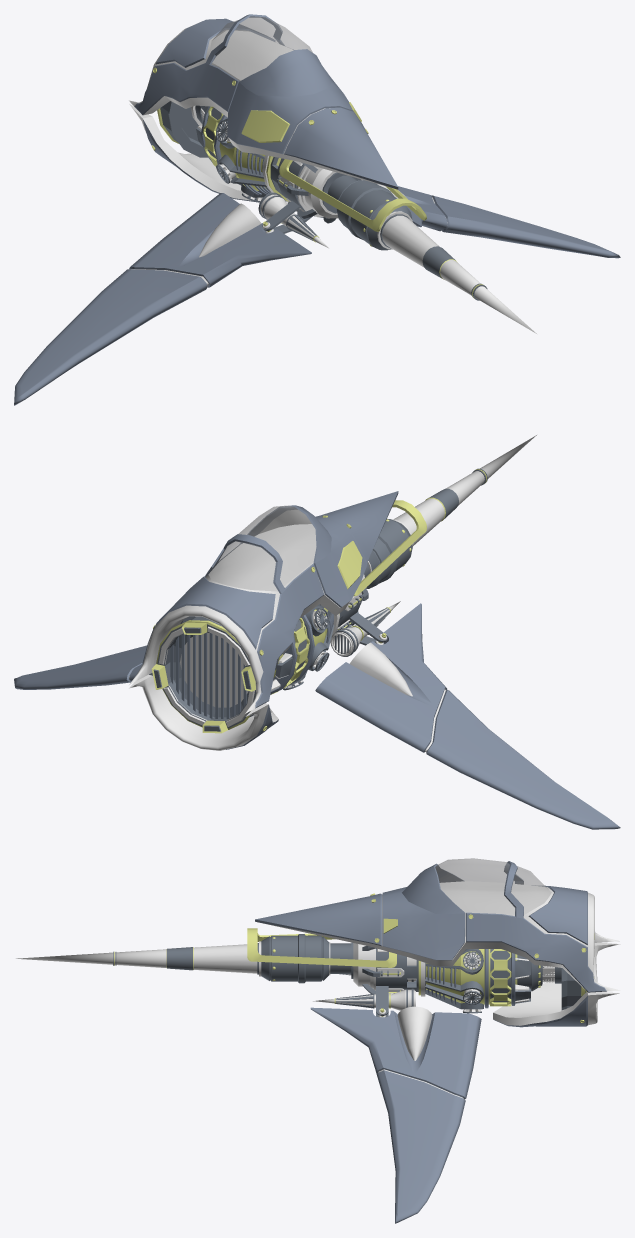
The model's file is HW6 scat.fbx.
The picture shows the model from 3 angles, top to bottom: view 1: azimuth 30°, elevation 25°; view 2: azimuth 150°, elevation 25°; view 3: azimuth 270°, elevation 25°; orthographic projection. The views are drawn at different scales.
Visible parts, largest first — view 1: polySurface254, polySurface220, polySurface53, polySurface235, polySurface47, polySurface51, polySurface396, polySurface13, polySurface42, polySurface48, polySurface33, polySurface212 (+10 smaller); view 2: polySurface254, polySurface53, polySurface212, polySurface51, polySurface48, polySurface235, polySurface42, polySurface220, polySurface47, polySurface396, polySurface13, polySurface248 (+5 smaller); view 3: polySurface235, polySurface53, polySurface220, polySurface51, polySurface47, polySurface396, polySurface13, polySurface48, polySurface42, polySurface33, polySurface18, polySurface229 (+10 smaller).
Part boxes in pixels (x1,y1,x2,y2): polySurface254: [14, 193, 311, 405]; polySurface220: [227, 49, 364, 153]; polySurface53: [129, 16, 392, 188]; polySurface235: [398, 186, 620, 258]; polySurface47: [284, 107, 398, 189]; polySurface51: [134, 14, 293, 115]; polySurface396: [382, 215, 536, 333]; polySurface13: [336, 180, 412, 250]; polySurface42: [156, 18, 275, 67]; polySurface48: [129, 104, 262, 200]; polySurface33: [279, 159, 426, 231]; polySurface212: [160, 101, 207, 157]; polySurface254: [315, 603, 620, 829]; polySurface53: [129, 505, 349, 713]; polySurface212: [153, 616, 256, 731]; polySurface51: [135, 534, 324, 708]; polySurface48: [129, 674, 278, 750]; polySurface235: [14, 645, 152, 689]; polySurface42: [156, 576, 275, 649]; polySurface220: [239, 505, 366, 607]; polySurface47: [315, 491, 398, 563]; polySurface396: [393, 435, 536, 545]; polySurface13: [366, 519, 412, 588]; polySurface248: [349, 642, 412, 696]; polySurface235: [310, 1007, 481, 1223]; polySurface53: [258, 858, 620, 991]; polySurface220: [382, 863, 465, 960]; polySurface51: [466, 861, 606, 992]; polySurface47: [255, 893, 381, 945]; polySurface396: [16, 944, 257, 973]; polySurface13: [261, 934, 329, 983]; polySurface48: [493, 942, 620, 1025]; polySurface42: [528, 885, 587, 945]; polySurface33: [247, 928, 396, 967]; polySurface18: [426, 949, 490, 1004]; polySurface229: [397, 1006, 432, 1060].
Bounding box in the file's own units: 9.95 × 4.29 × 9.97.
